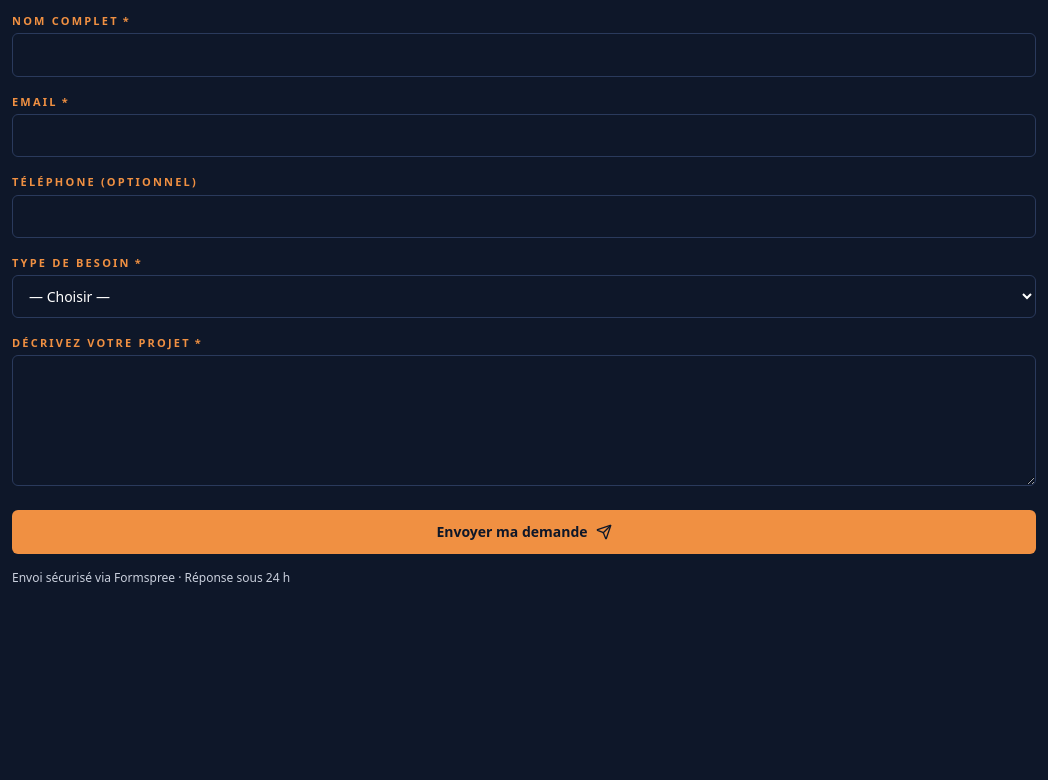
Test: ContactForm › blocks submission with malformed email
The width and height of the screenshot is (1048, 780).
Type "Awa Diop" into the field labelled "Nom complet*" at [524, 55], box x1=12 y1=33 x2=1036 y2=77
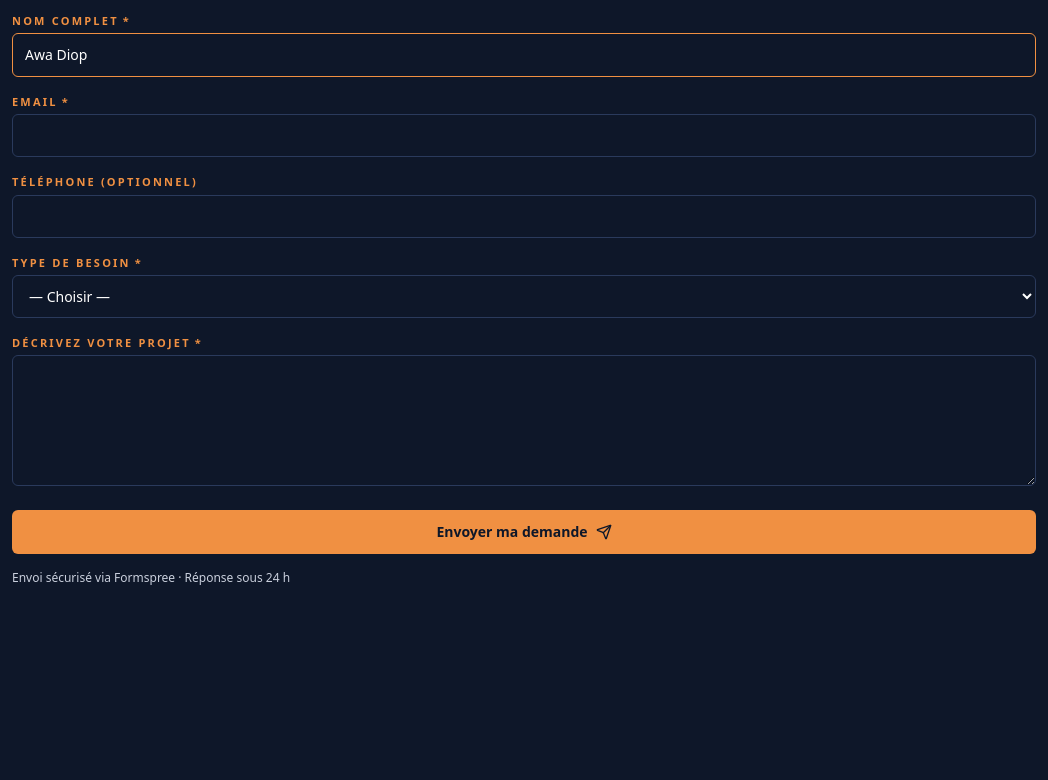
Type "pas-un-email" into the field labelled "Email*" at [524, 136], box x1=12 y1=114 x2=1036 y2=158
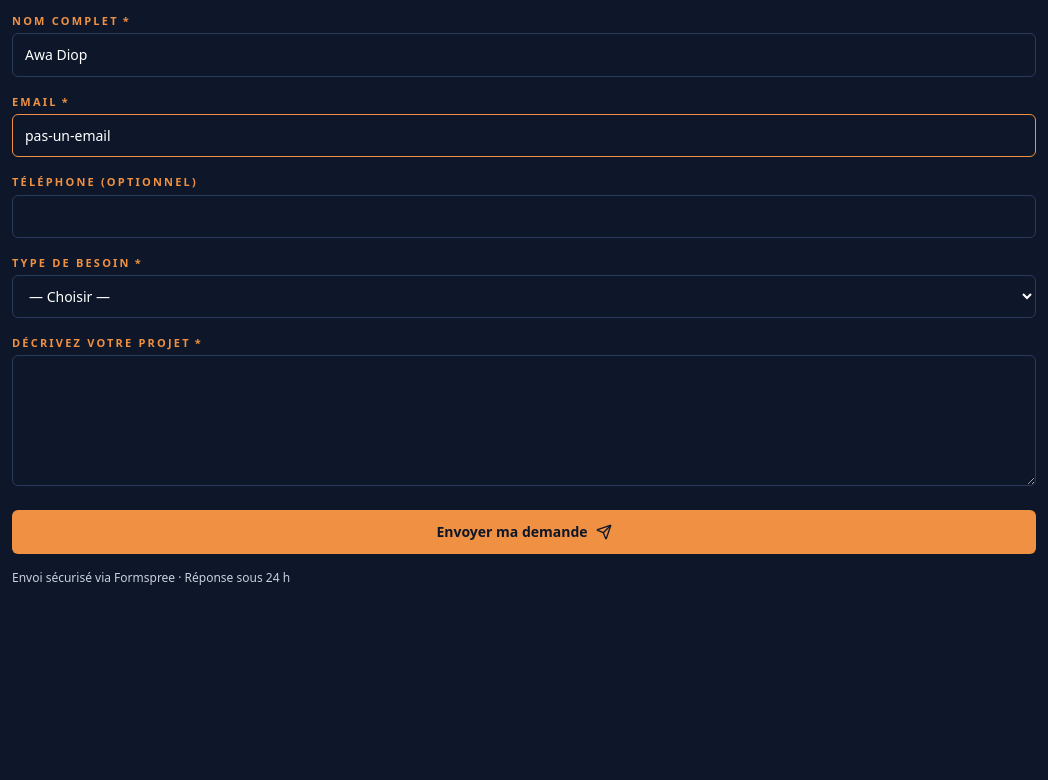
Type "Mémoire de M2" into the text box labelled "Décrivez votre projet*" at [524, 420], box x1=12 y1=355 x2=1036 y2=486
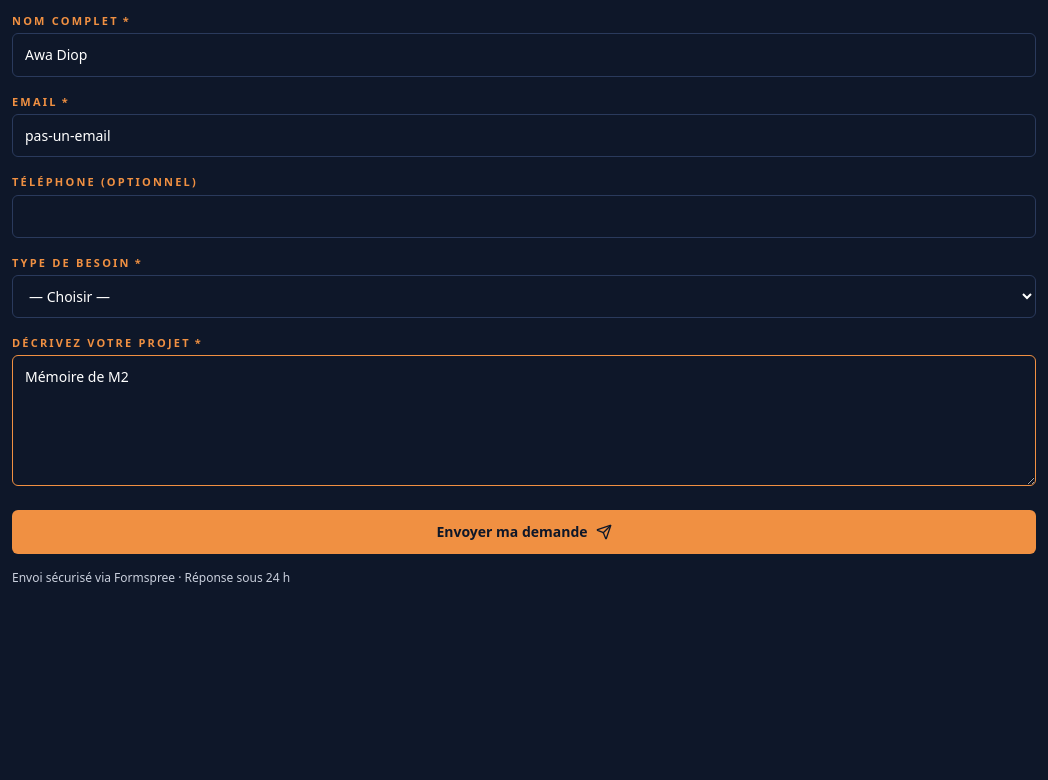
Click the button "Envoyer ma demande" at [524, 532], box x1=12 y1=510 x2=1036 y2=554
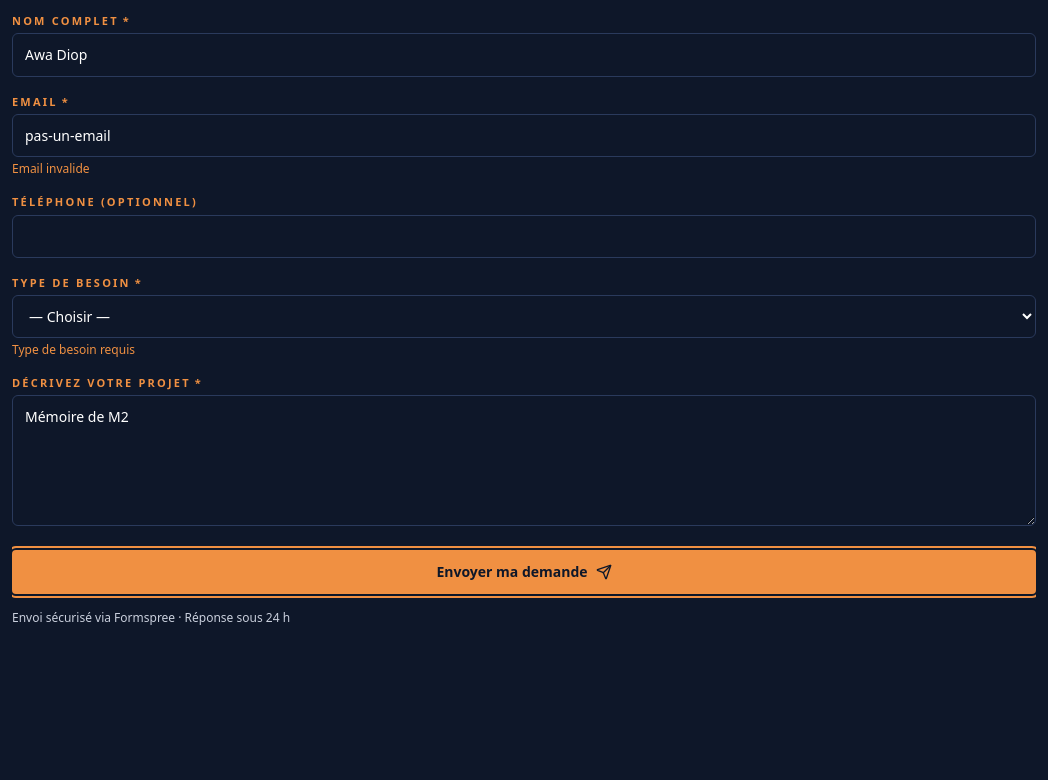
Check: the text "Email invalide" is shown, box x1=12 y1=160 x2=90 y2=178
